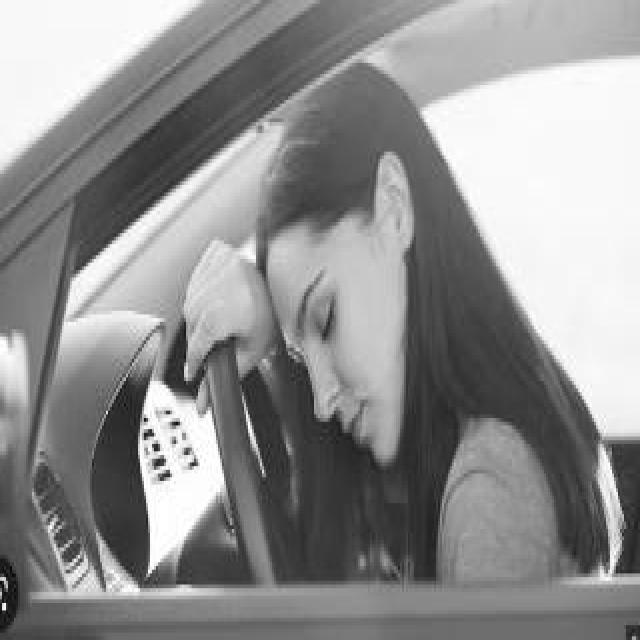Focused: (282, 205, 400, 465)
